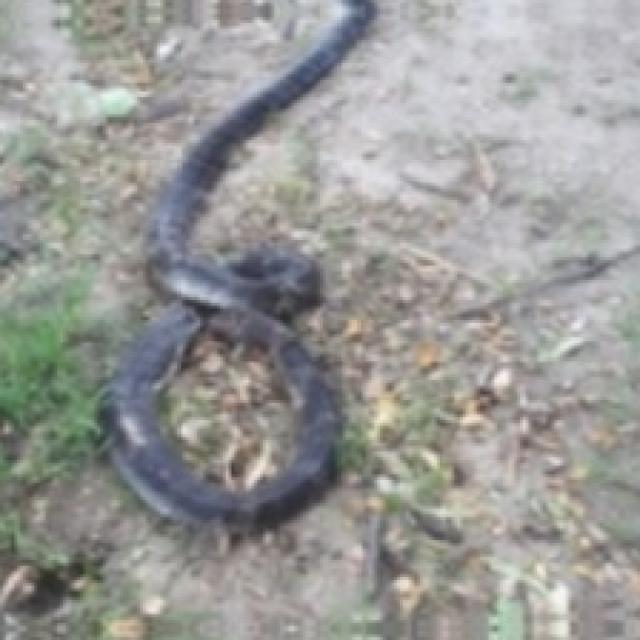king cobra: (103, 0, 371, 523), (154, 329, 294, 489)
